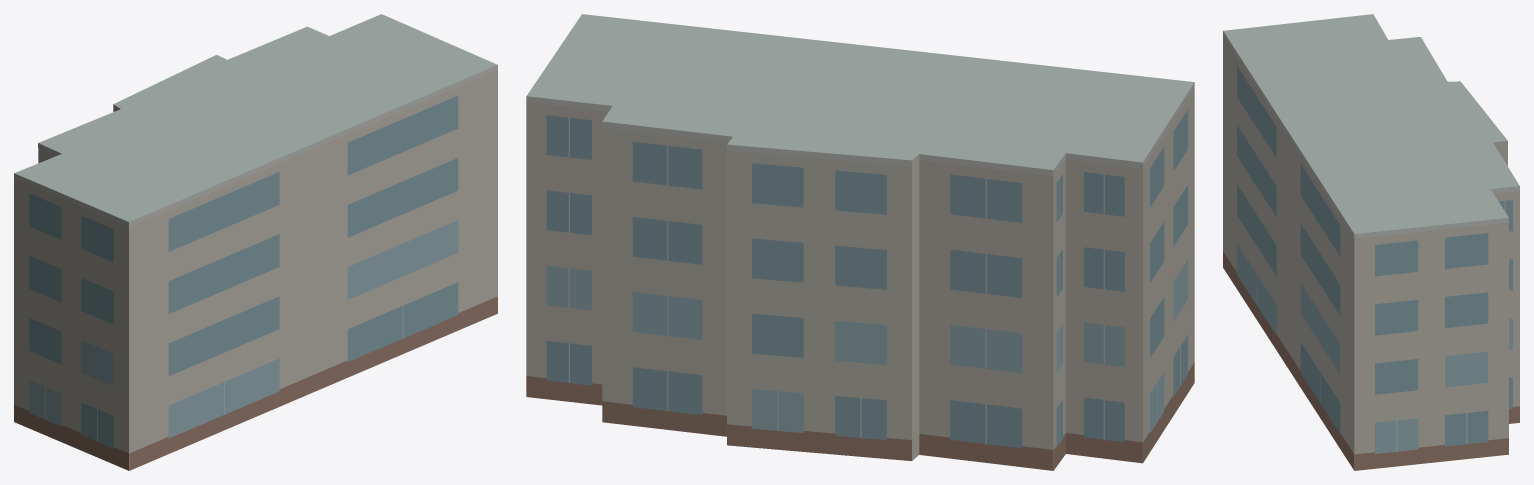
The model's file is survey-upis-32561516.glb.
The picture shows the model from 3 angles, left to right: view 1: azimuth 30°, elevation 25°; view 2: azimuth 150°, elevation 25°; view 3: azimuth 270°, elevation 25°; orthographic projection. The views are drawn at different scales.
Parts seen in each view (by area): view 1: survey-upis-32561516.tmp; view 2: survey-upis-32561516.tmp; view 3: survey-upis-32561516.tmp.
Part boxes in pixels (x1,y1,x2,y2): survey-upis-32561516.tmp: [14, 14, 497, 470]; survey-upis-32561516.tmp: [526, 14, 1194, 470]; survey-upis-32561516.tmp: [1223, 14, 1519, 470].
Bounding box in the file's own units: 24.33 × 12.2 × 13.86.
